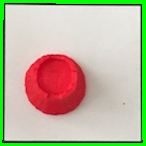Red Castle: (21, 50, 88, 117)
